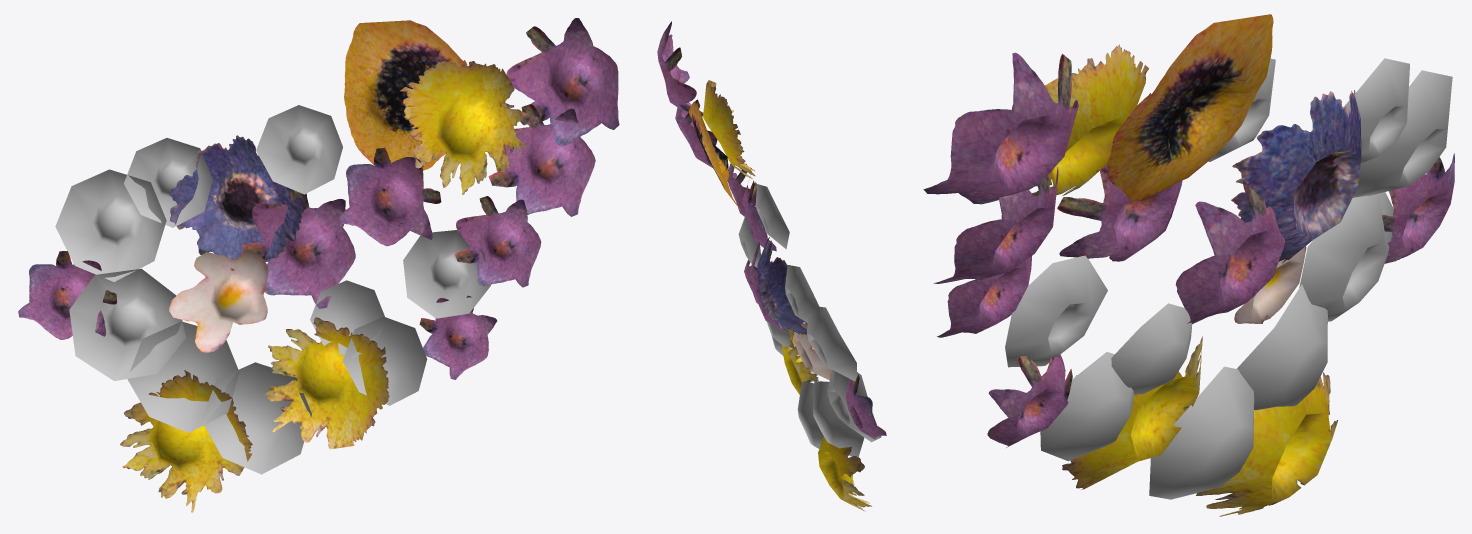
The model's file is Right_Flower2.fbx.
The picture shows the model from 3 angles, left to right: view 1: azimuth 30°, elevation 25°; view 2: azimuth 150°, elevation 25°; view 3: azimuth 270°, elevation 25°; orthographic projection. The views are drawn at different scales.
Visible parts, largest first — view 1: Circle.715, Circle.714, Circle.744, Circle.742, Circle.732, Circle.716, Circle.745, Circle.713, Circle.722, Circle.738, Circle.717, Circle.730 (+10 smaller); view 2: Circle.742, Circle.745, Circle.715, Circle.713, Circle.735, Circle.716, Circle.732, Circle.733, Circle.744, Circle.734, Circle.729, Circle.738 (+8 smaller); view 3: Circle.744, Circle.742, Circle.716, Circle.738, Circle.713, Circle.722, Circle.715, Circle.732, Circle.737, Circle.735, Circle.714, Circle.717 (+10 smaller).
Part boxes in pixels (x1,y1,x2,y2): Circle.715: (400,60,526,194); Circle.714: (265,317,389,449); Circle.744: (344,20,467,170); Circle.742: (169,135,307,270); Circle.732: (69,268,185,380); Circle.716: (506,18,619,145); Circle.745: (55,169,166,281); Circle.713: (120,370,252,512); Circle.722: (241,189,355,308); Circle.738: (201,362,311,474); Circle.717: (488,104,595,216); Circle.730: (169,250,268,352); Circle.742: (757,237,806,334); Circle.745: (807,306,857,381); Circle.715: (703,80,755,178); Circle.713: (818,436,871,511); Circle.735: (812,381,864,457); Circle.716: (657,21,703,116); Circle.732: (827,370,881,442); Circle.733: (785,265,819,322); Circle.744: (688,101,740,210); Circle.734: (755,184,789,249); Circle.729: (846,374,886,439); Circle.738: (797,381,823,448); Circle.744: (1106,14,1273,200); Circle.742: (1231,90,1361,263); Circle.716: (923,52,1078,204); Circle.738: (1149,366,1254,499); Circle.713: (1196,372,1337,516); Circle.722: (1175,174,1284,323); Circle.715: (1032,44,1148,195); Circle.732: (1299,192,1393,321); Circle.737: (1005,255,1107,367); Circle.735: (1237,284,1327,410); Circle.714: (1062,336,1202,489); Circle.717: (933,167,1058,283).
Size of the model in its own units: 56.74 by 59.82 by 41.68.
